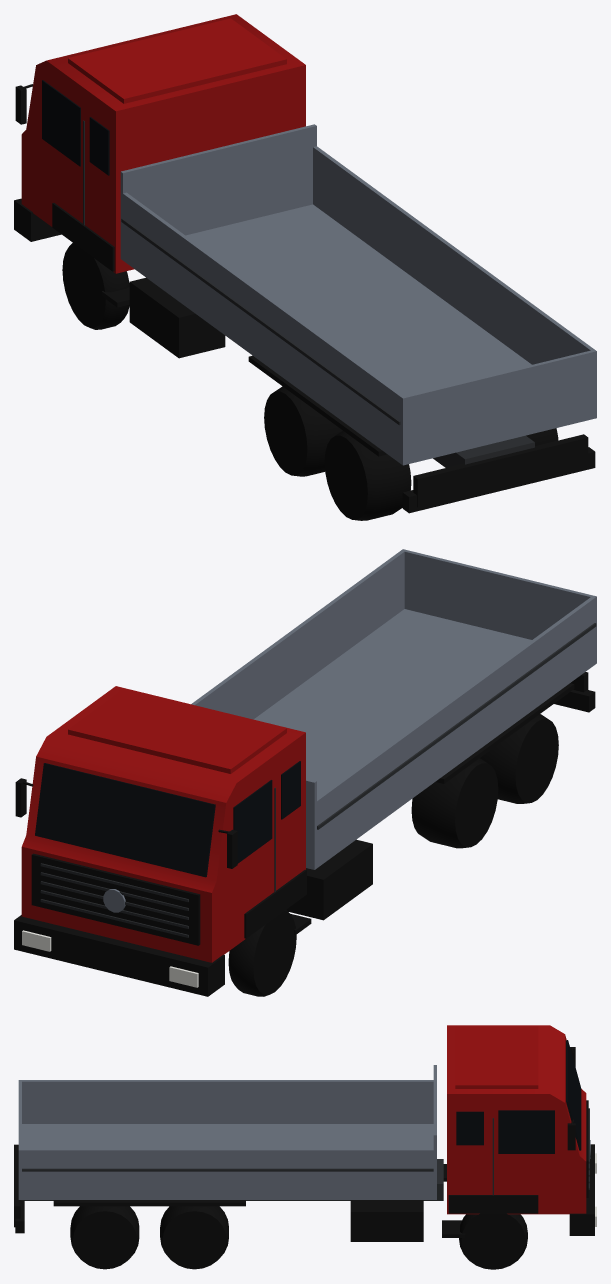
Rendered from plant.truck.tipper.glb.
3 renders of one model, top to bottom at view 1: azimuth 30°, elevation 25°; view 2: azimuth 150°, elevation 25°; view 3: azimuth 270°, elevation 25°, orthographic. The views are drawn at different scales.
Parts seen in each view (by area): view 1: body__steel_painted, chassis__car_red, wheels__rubber, chassis__plastic_black, body__plastic_black, chassis__glass_dark, chassis__steel_dark, body__steel_dark; view 2: body__steel_painted, chassis__car_red, chassis__plastic_black, chassis__glass_dark, wheels__rubber, chassis__steel_dark, body__steel_dark, chassis__paint_white; view 3: body__steel_painted, chassis__car_red, wheels__rubber, chassis__plastic_black, chassis__glass_dark, body__steel_dark, chassis__steel_dark, body__plastic_black.
Part boxes in pixels (x1=…): body__steel_painted: x1=120, y1=124, x2=596, y2=465; chassis__car_red: x1=21, y1=14, x2=305, y2=273; wheels__rubber: x1=62, y1=243, x2=558, y2=520; chassis__plastic_black: x1=14, y1=84, x2=595, y2=513; body__plastic_black: x1=413, y1=434, x2=588, y2=507; chassis__glass_dark: x1=42, y1=80, x2=109, y2=175; chassis__steel_dark: x1=83, y1=120, x2=534, y2=467; body__steel_dark: x1=121, y1=218, x2=400, y2=425; body__steel_painted: x1=191, y1=549, x2=596, y2=869; chassis__car_red: x1=21, y1=686, x2=305, y2=962; chassis__plastic_black: x1=14, y1=683, x2=595, y2=996; chassis__glass_dark: x1=35, y1=761, x2=300, y2=877; wheels__rubber: x1=228, y1=714, x2=558, y2=996; chassis__steel_dark: x1=40, y1=787, x2=275, y2=937; body__steel_dark: x1=317, y1=623, x2=596, y2=829; chassis__paint_white: x1=22, y1=930, x2=198, y2=987; body__steel_painted: x1=18, y1=1065, x2=436, y2=1199; chassis__car_red: x1=447, y1=1025, x2=586, y2=1214; wheels__rubber: x1=70, y1=1206, x2=527, y2=1269; chassis__plastic_black: x1=15, y1=1047, x2=594, y2=1241; chassis__glass_dark: x1=456, y1=1040, x2=581, y2=1153; body__steel_dark: x1=22, y1=1168, x2=433, y2=1171; chassis__steel_dark: x1=21, y1=1108, x2=589, y2=1200; body__plastic_black: x1=14, y1=1144, x2=20, y2=1227.
Size of the model in its own units: 2.79 by 3.01 by 8.78.
